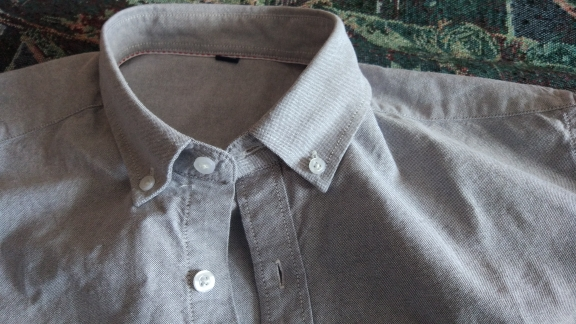shirts: (8, 5, 558, 324)
